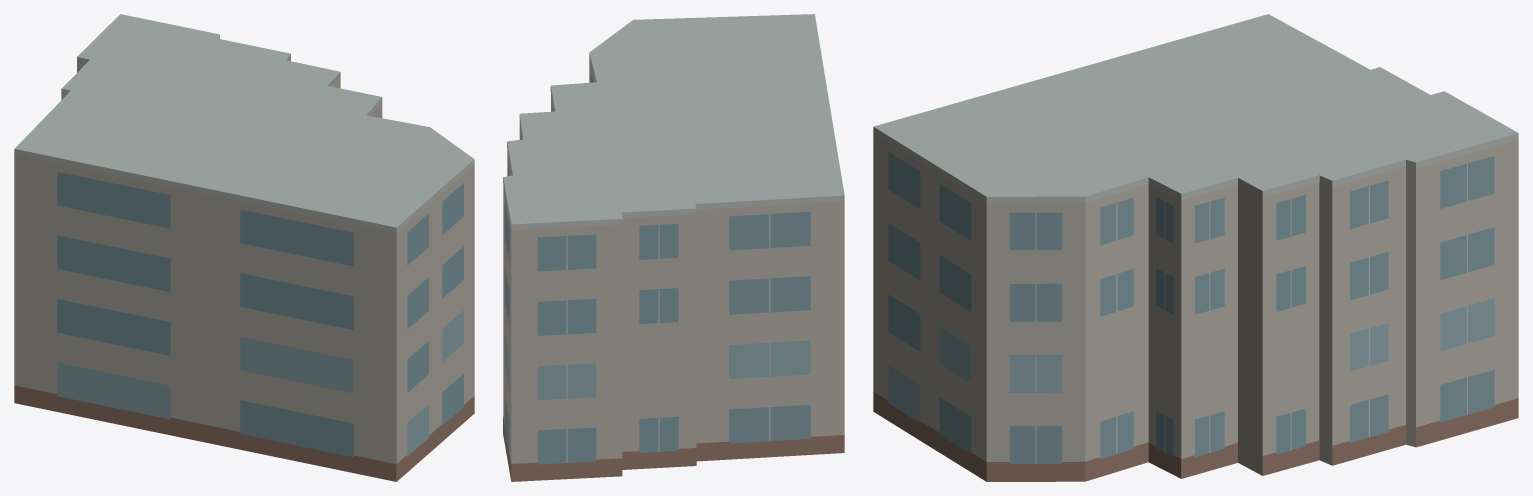
File: survey-upis-32608391.glb
The picture shows the model from 3 angles, left to right: view 1: azimuth 30°, elevation 25°; view 2: azimuth 150°, elevation 25°; view 3: azimuth 270°, elevation 25°; orthographic projection. The views are drawn at different scales.
Visible parts, largest first — view 1: survey-upis-32608391.tmp; view 2: survey-upis-32608391.tmp; view 3: survey-upis-32608391.tmp.
Part boxes in pixels (x1,y1,x2,y2): survey-upis-32608391.tmp: (14,14,474,481); survey-upis-32608391.tmp: (503,14,844,481); survey-upis-32608391.tmp: (873,14,1518,481).
Bounding box in the file's own units: 15.15 × 11 × 22.59.
